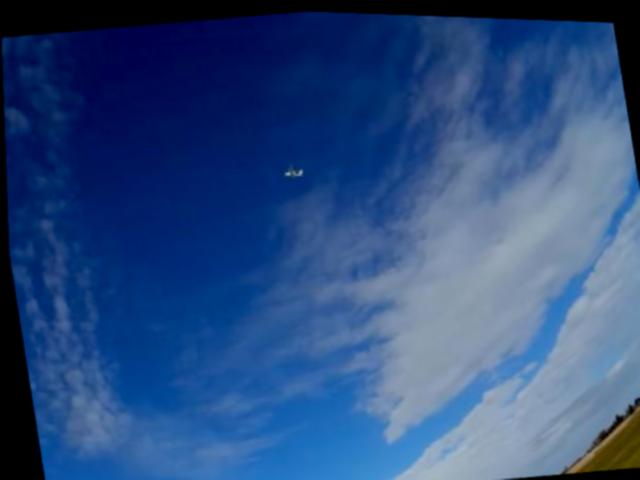uav: (274, 146, 307, 184)
